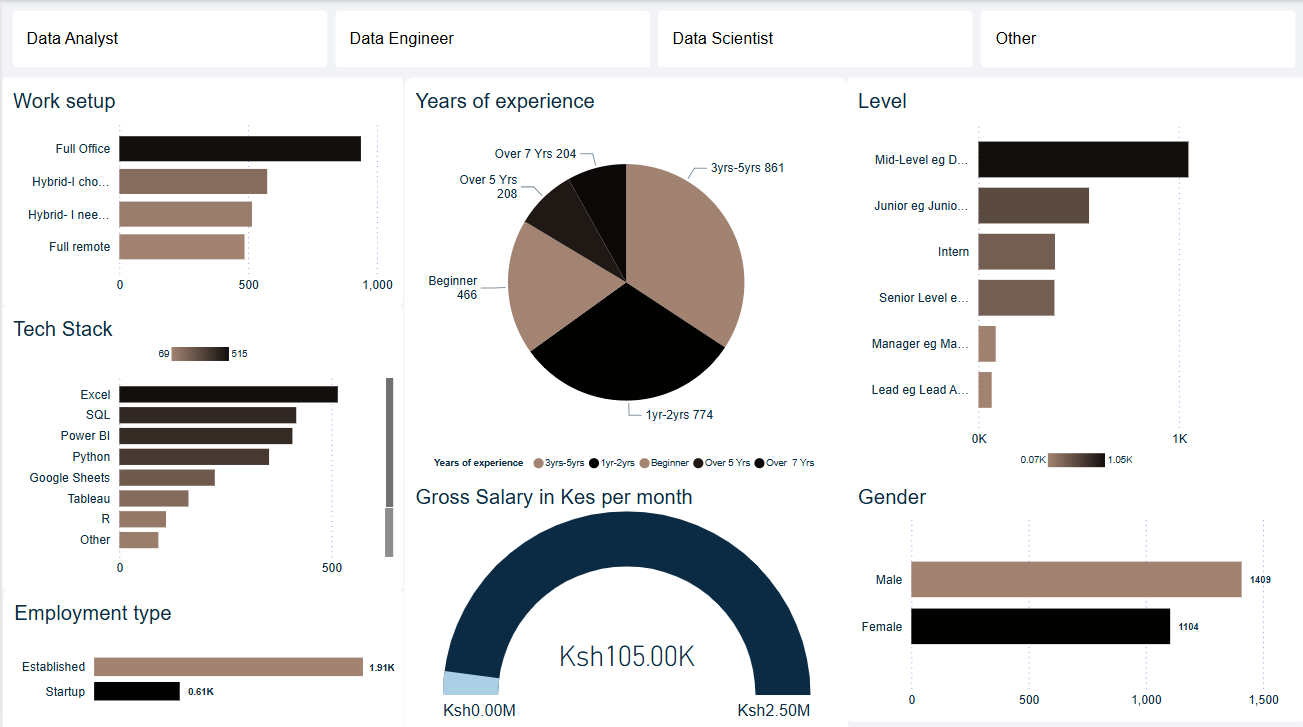

What the dashboard file says about the page in this screenshot:
{"tool":"powerbi","page":{"name":"Home","canvas":[1280,720],"ordinal":0},"visuals":[{"type":"pieChart","title":"Years of experience ","fields":{"Category":["compensation data (Responses) - Form responses 1.How many years of experience do you have in the data Field?"],"Y":["CountNonNull(compensation data (Responses) - Form responses 1.What is your Current Role?)"]},"box":[395.1,76.1,434.4,401.2],"z":0},{"type":"barChart","title":"Gender","fields":{"Category":["compensation data (Responses) - Form responses 1.What is your gender"],"Y":["CountNonNull(compensation data (Responses) - Form responses 1.What is your gender)"],"Series":["compensation data (Responses) - Form responses 1.What is your gender"]},"box":[829.5,465,450.3,242.9],"z":1000},{"type":"clusteredBarChart","title":"Level","fields":{"Category":["compensation data (Responses) - Form responses 1.What is your Level?"],"Y":["CountNonNull(compensation data (Responses) - Form responses 1.What is your Level?)"]},"box":[829.5,76.1,450.3,401.2],"z":2000},{"type":"gauge","title":"Gross Salary in Kes per month","fields":{"Y":["Median(compensation data (Responses) - Form responses 1.What is your monthly Gross Salary in Kes per month?)"],"MinValue":["Min(compensation data (Responses) - Form responses 1.What is your monthly Gross Salary in Kes per month?)"],"MaxValue":["Max(compensation data (Responses) - Form responses 1.What is your monthly Gross Salary in Kes per month?)"]},"box":[395.1,465,435.6,255.2],"z":3000},{"type":"advancedSlicerVisual","fields":{"Values":["compensation data (Responses) - Form responses 1.What is your Current Role?"]},"box":[0,0,1280,76.2],"z":4000},{"type":"barChart","title":"Work setup","fields":{"Category":["compensation data (Responses) - Form responses 1.What is your work setup?"],"Y":["CountNonNull(compensation data (Responses) - Form responses 1.What is your Current Role?)"]},"box":[0,76.1,393.9,224.5],"z":5000},{"type":"barChart","title":"Employment type","fields":{"Category":["compensation data (Responses) - Form responses 1.Employer Type"],"Y":["CountNonNull(compensation data (Responses) - Form responses 1.What is your Current Role?)"],"Series":["compensation data (Responses) - Form responses 1.Employer Type"]},"box":[1.2,579.1,393.9,141.1],"z":6000},{"type":"clusteredBarChart","title":"Tech Stack","fields":{"Category":["compensation data (Responses) - Form responses 1.What is your main Tech stack? - Copy"],"Y":["CountNonNull(compensation data (Responses) - Form responses 1.What is your Current Role?)"]},"box":[0,300.6,393.9,278.5],"z":7000}]}

Visuals, with their boxes in screenshot pixels (x1, y1, x2, y2), scaled from the page's 1280x720 canvas onto the 1303x727 screenshot:
"Years of experience " pieChart: x1=402 y1=77 x2=844 y2=482
"Gender" barChart: x1=844 y1=470 x2=1302 y2=715
"Level" clusteredBarChart: x1=844 y1=77 x2=1302 y2=482
"Gross Salary in Kes per month" gauge: x1=402 y1=470 x2=846 y2=726
advancedSlicerVisual - compensation data (Responses) - Form responses 1.What is your Current Role?: x1=0 y1=0 x2=1302 y2=77
"Work setup" barChart: x1=0 y1=77 x2=401 y2=304
"Employment type" barChart: x1=1 y1=585 x2=402 y2=726
"Tech Stack" clusteredBarChart: x1=0 y1=304 x2=401 y2=585
